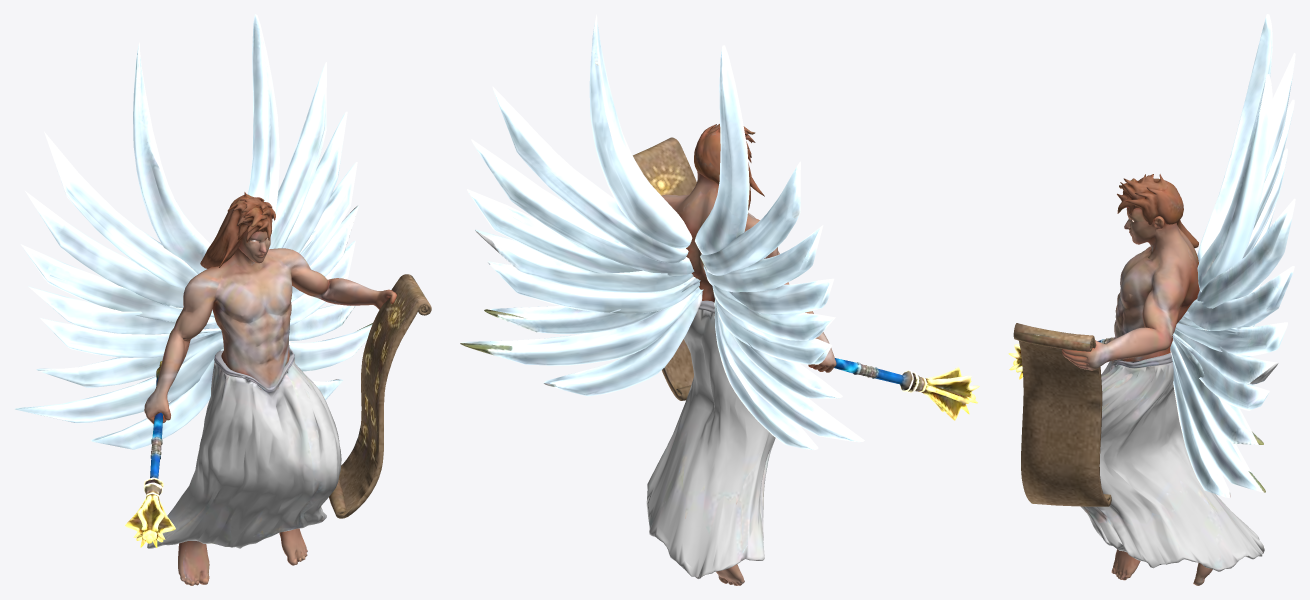
Rendered from MZ4250 - Deva Male_1_2025.glb.
3 views of the same model, side by side, from view 1: azimuth 30°, elevation 25°; view 2: azimuth 150°, elevation 25°; view 3: azimuth 270°, elevation 25° (orthographic). The views are drawn at different scales.
Visible parts, largest first — view 1: Deva Male.001; view 2: Deva Male.001; view 3: Deva Male.001.
Part boxes in pixels (x1,y1,x2,y2): Deva Male.001: (14, 14, 431, 585); Deva Male.001: (460, 14, 979, 585); Deva Male.001: (1008, 14, 1295, 585).
Size of the model in its own units: 95.16 by 129 by 60.41.
1 material, 1 textured.
